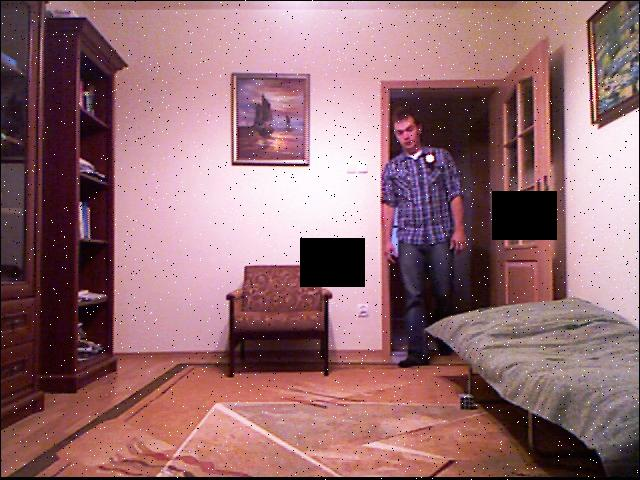walking: (380, 106, 471, 367)
